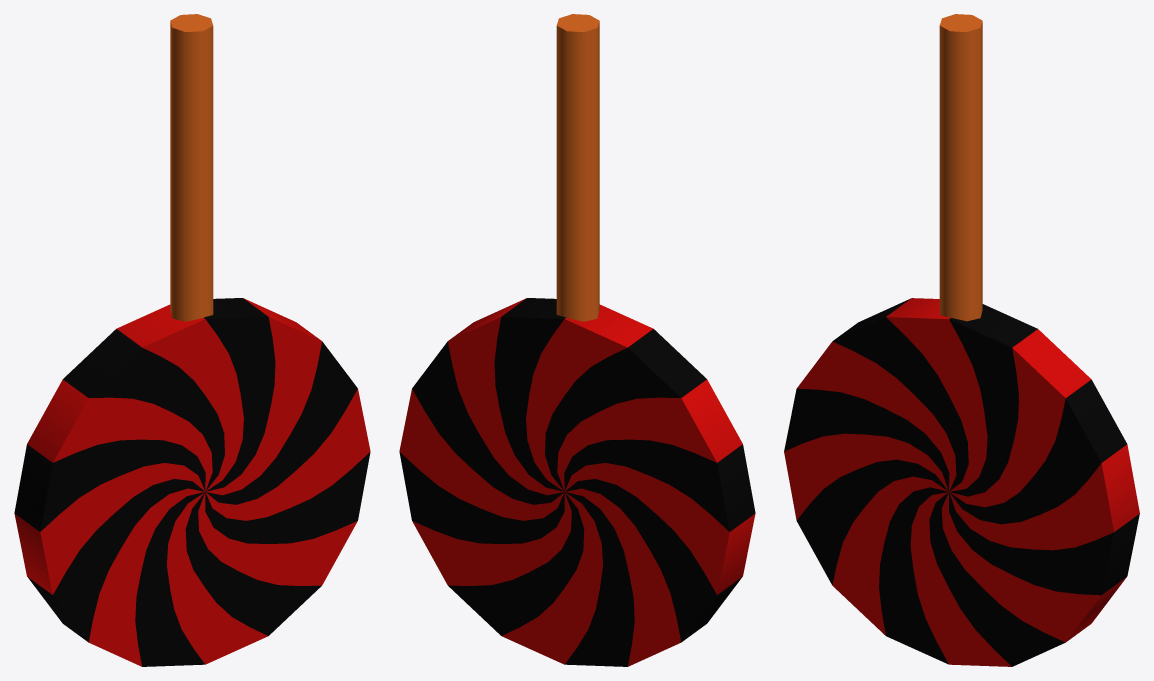
File: candy_4.fbx
3 renders of one model, left to right at view 1: azimuth 30°, elevation 25°; view 2: azimuth 150°, elevation 25°; view 3: azimuth 330°, elevation 25°, orthographic.
Parts seen in each view (by area): view 1: axe1H4.001; view 2: axe1H4.001; view 3: axe1H4.001.
Boxes of the visible parts, x1,y1,x2,y2 form: axe1H4.001: (14,14,370,666); axe1H4.001: (399,14,755,666); axe1H4.001: (784,14,1139,666).
Size of the model in its own units: 56.58 by 104 by 7.67.
